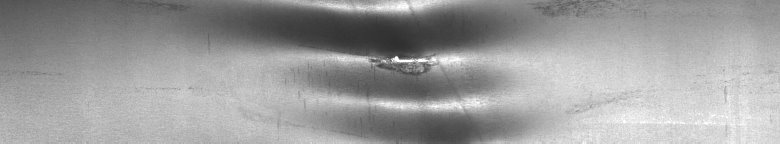ke: (266, 4, 486, 120)
